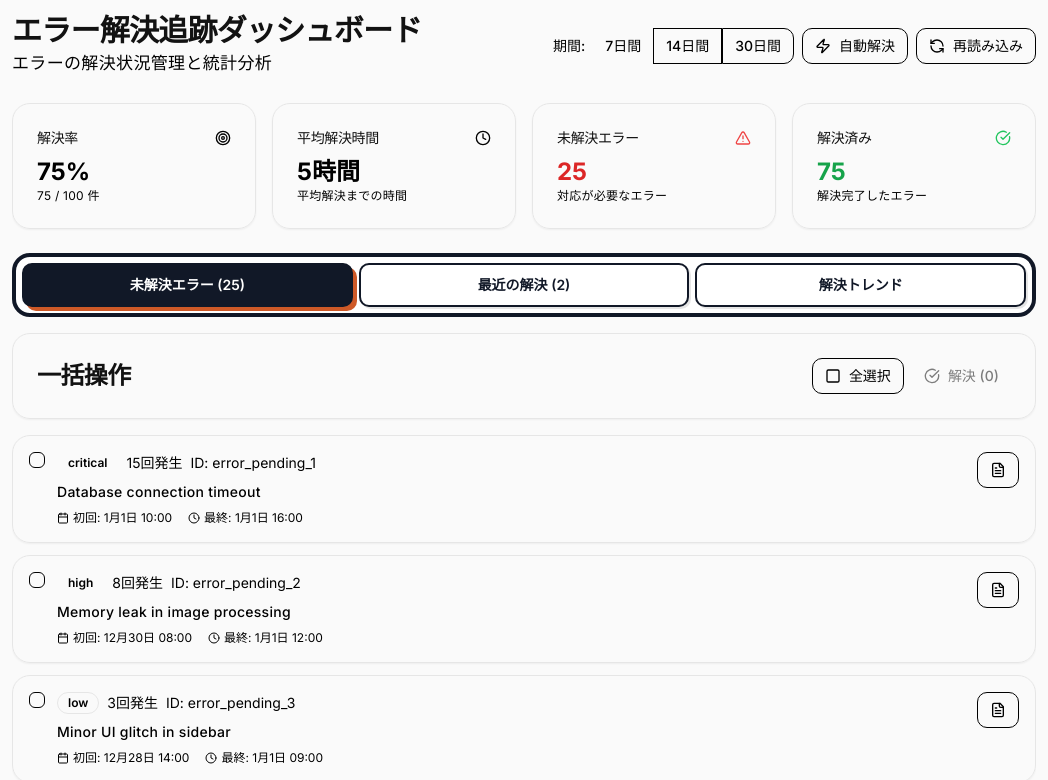
it: ErrorResolutionDashboard › タブ機能テスト › 最近の解決タブに切り替えできること
Step 1. Click the tab "最近の解決 (2)" → (524, 285), box [359, 263, 689, 307]
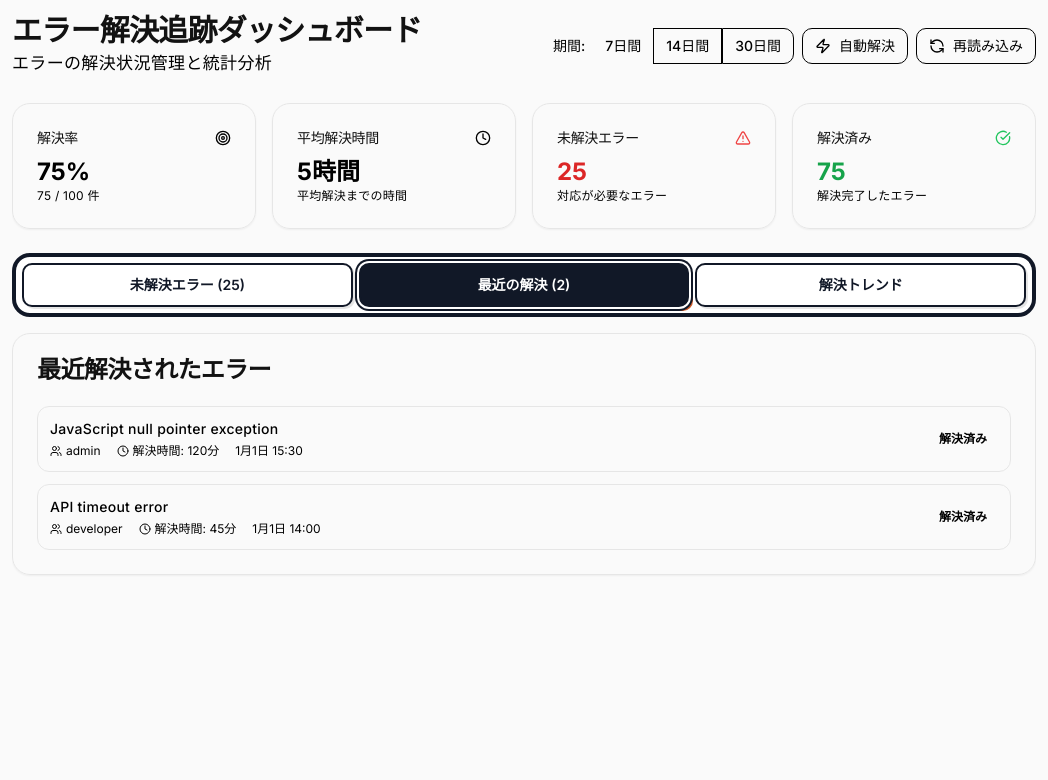
Now the heading "最近解決されたエラー" is shown, box [37, 355, 271, 384]
Now the text "JavaScript null pointer exception" is shown, box [50, 420, 278, 437]
Now the text "API timeout error" is shown, box [50, 498, 168, 515]
